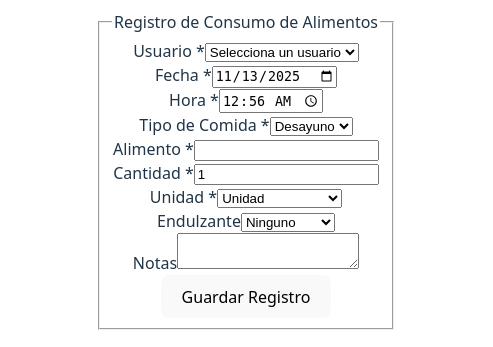
Test: RegistrationForm - Validation › shows validation error when date is missing
Clear the date field labelled "Fecha *" at [274, 77], box [212,66,337,88]
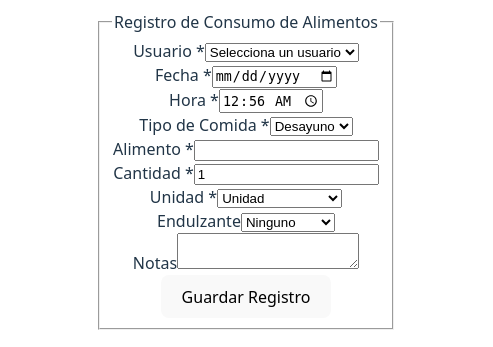
Click the button "Guardar Registro" at [246, 297], box [161,275,330,318]
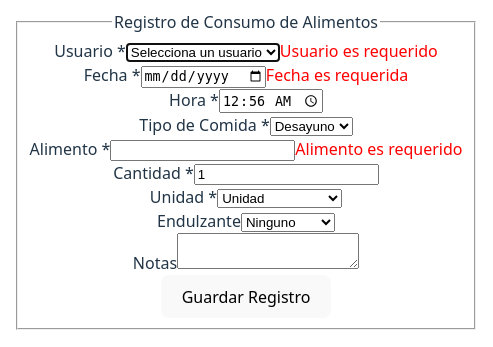
expect the text "Fecha es requerida" is shown: met, box [266,64,408,86]
